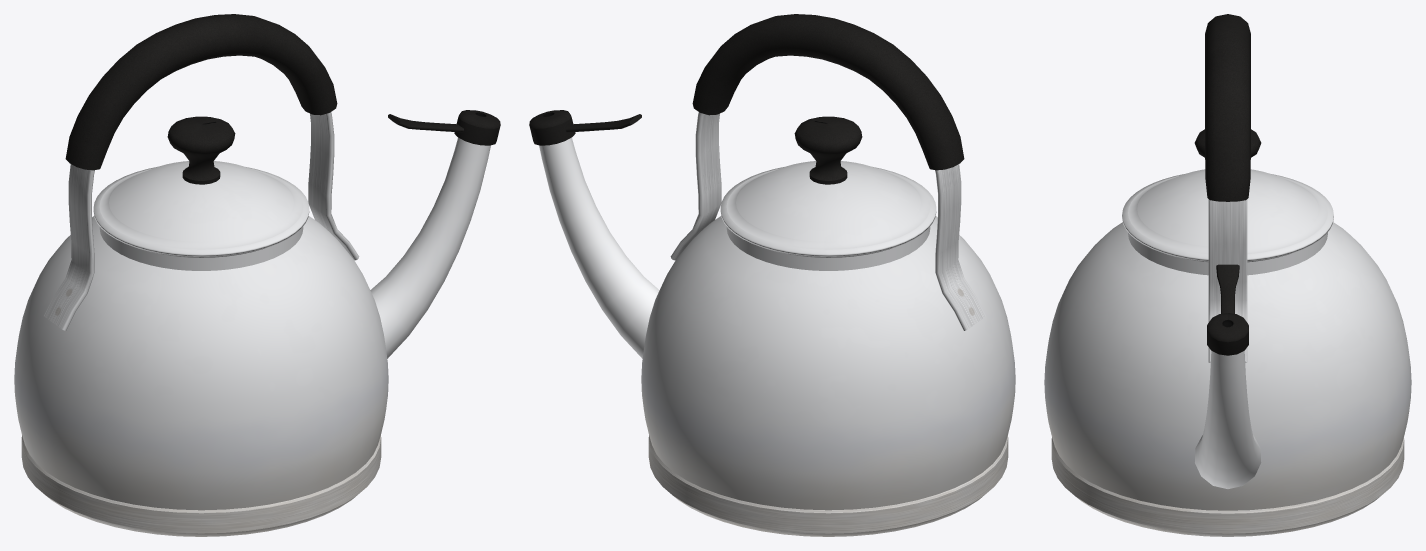
3 views of the same model, side by side, from view 1: azimuth 30°, elevation 25°; view 2: azimuth 150°, elevation 25°; view 3: azimuth 270°, elevation 25° (orthographic).
Parts seen in each view (by area): view 1: kettle; view 2: kettle; view 3: kettle.
Boxes of the visible parts, x1,y1,x2,y2 form: kettle: (14, 14, 500, 536); kettle: (529, 14, 1015, 536); kettle: (1044, 14, 1411, 536).
Bounding box in the file's own units: 0.2545 × 0.2362 × 0.18.
2 materials, 2 textured.
